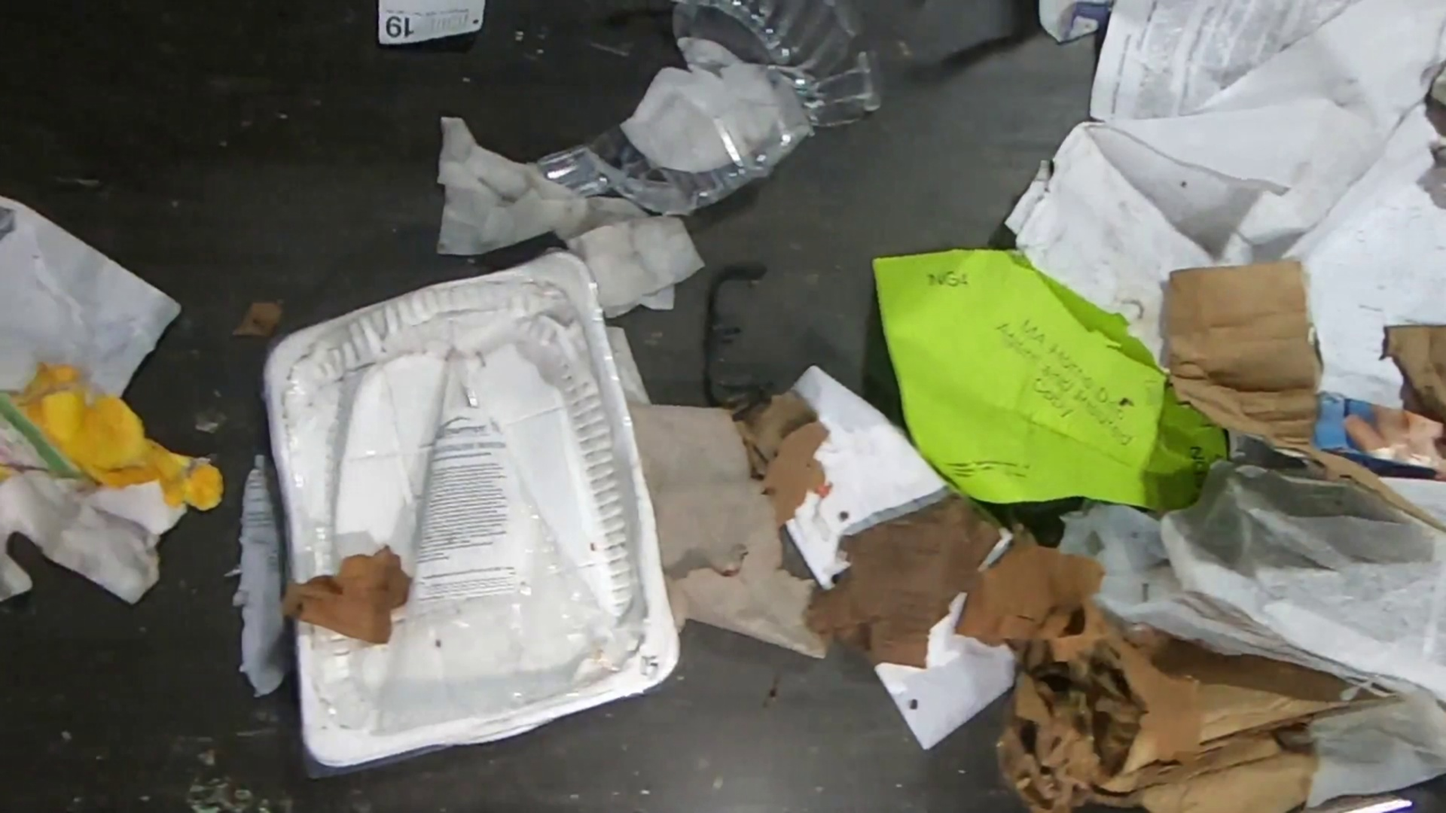cardboard: (952, 521, 1402, 813), (1163, 257, 1446, 536)
plastic: (256, 247, 683, 769), (532, 0, 892, 222)
